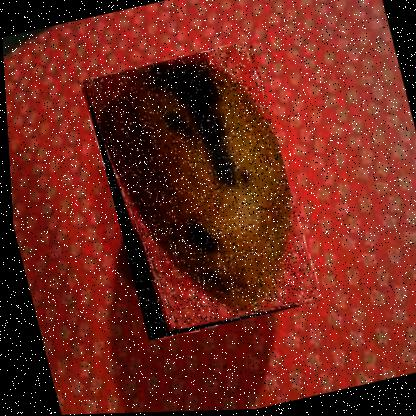mango_rotten: (79, 41, 317, 343)
